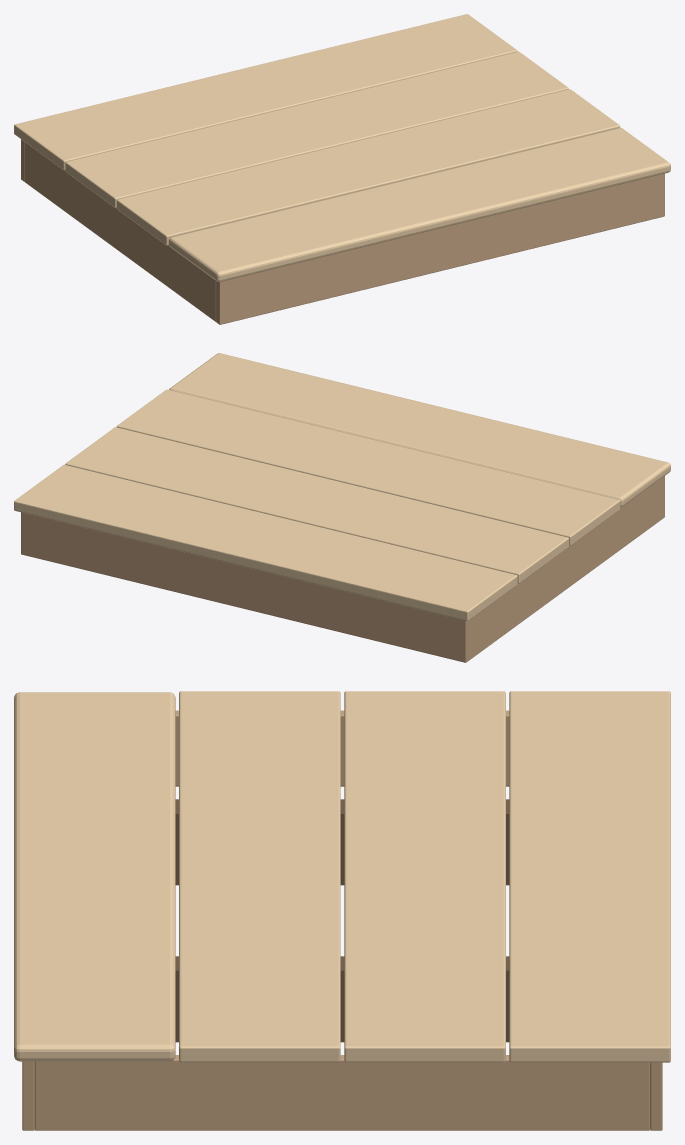
The model's file is notchstep.glb.
The picture shows the model from 3 angles, top to bottom: view 1: azimuth 30°, elevation 25°; view 2: azimuth 150°, elevation 25°; view 3: azimuth 270°, elevation 25°; orthographic projection. The views are drawn at different scales.
Parts seen in each view (by area): view 1: StepBoard3, StepBoard2, StepBoard0, StepBoard1, StepSkirtFront, StepSkirtEnd-1; view 2: StepBoard0, StepBoard2, StepBoard1, StepBoard3, StepSkirtBack, StepSkirtEnd-1; view 3: StepBoard0, StepBoard1, StepBoard2, StepBoard3, StepSkirtEnd1, StepBatten1, StepBatten-1, StepSkirtEnd-1, StepSkirtFront, StepSkirtBack.
Part boxes in pixels (box(x1,y1,x2,y2)): StepBoard3: box(168, 128, 670, 281); StepBoard2: box(116, 89, 620, 245); StepBoard0: box(14, 14, 517, 170); StepBoard1: box(65, 51, 568, 207); StepSkirtFront: box(216, 173, 664, 324); StepSkirtEnd-1: box(24, 142, 215, 321); StepBoard0: box(14, 464, 517, 621); StepBoard2: box(116, 389, 620, 545); StepBoard1: box(65, 427, 568, 583); StepBoard3: box(169, 353, 670, 507); StepSkirtBack: box(21, 512, 469, 662); StepSkirtEnd-1: box(469, 479, 660, 659); StepBoard0: box(509, 691, 670, 1062); StepBoard1: box(344, 691, 505, 1062); StepBoard2: box(179, 691, 340, 1062); StepBoard3: box(14, 692, 175, 1061); StepSkirtEnd1: box(34, 1055, 650, 1130); StepBatten1: box(175, 956, 509, 1042); StepBatten-1: box(175, 799, 509, 885); StepSkirtEnd-1: box(175, 710, 509, 786); StepSkirtFront: box(22, 1061, 34, 1130); StepSkirtBack: box(650, 1062, 662, 1130).
Size of the model in its own units: 1.22 by 0.14 by 0.95.
